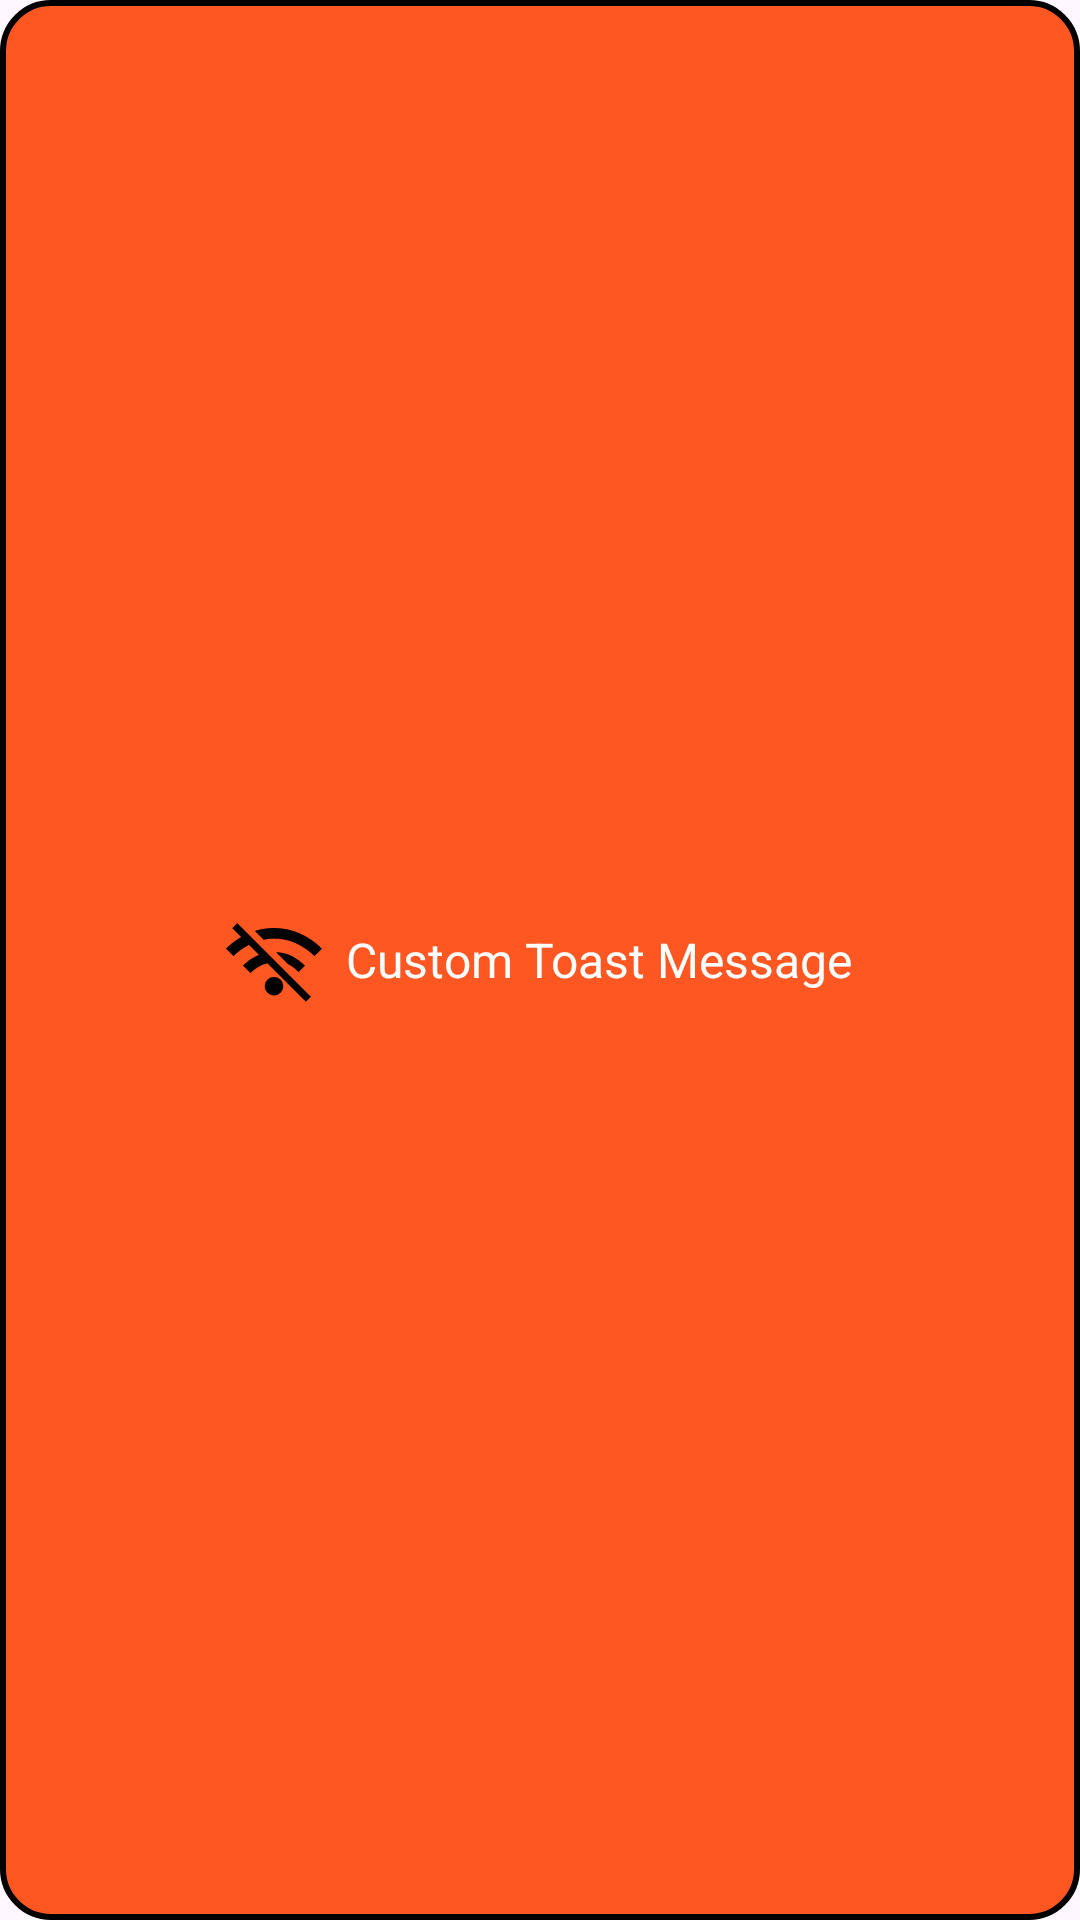

Screen size 1080x1920. Icon name, then its center in pixels as point (x, y):
no wifi: point (274, 962)
